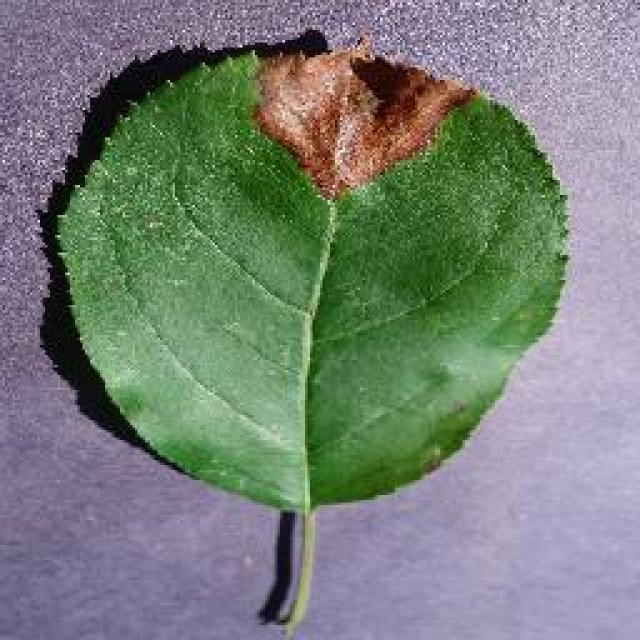apple scab disease: (35, 25, 573, 635)
